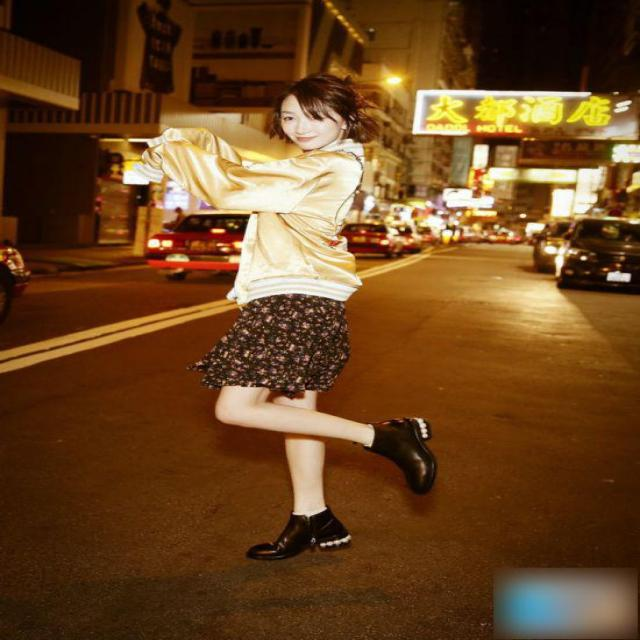obstacle: (108, 54, 470, 581)
